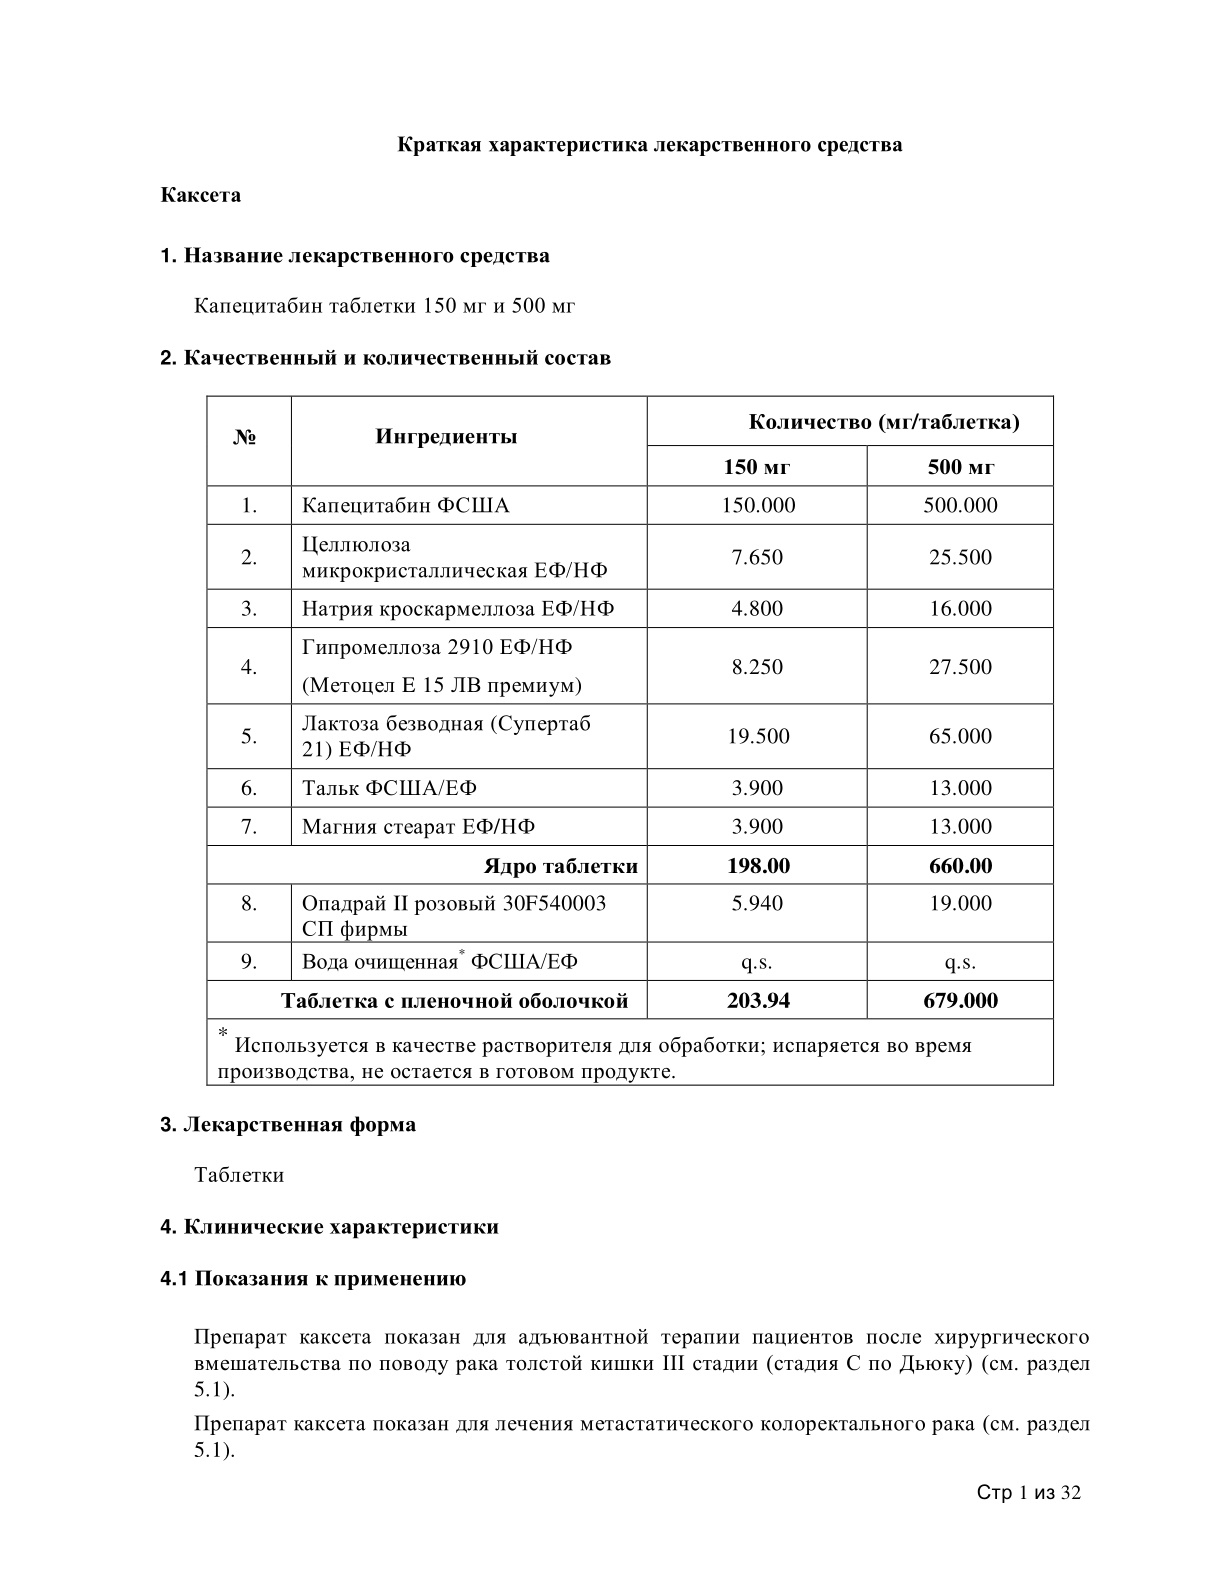merged_cells: (204, 393, 1056, 1088)
